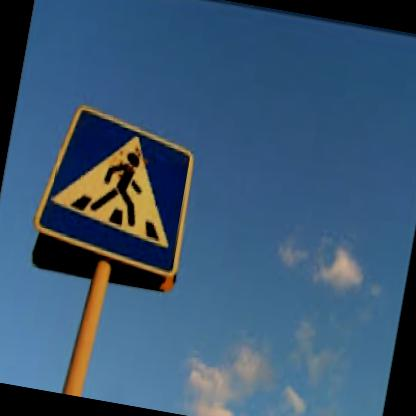crosswalk: (30, 96, 206, 270)
